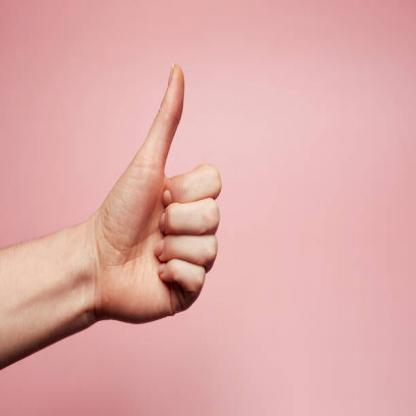thumb_up: (94, 58, 222, 330)
